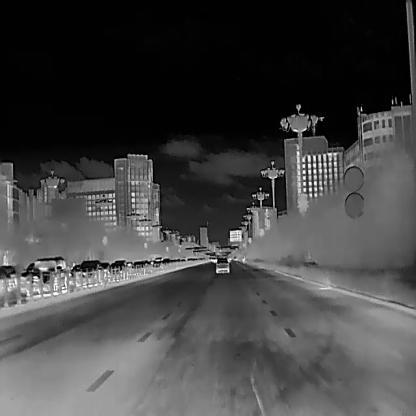car: (32, 255, 66, 293), (0, 264, 20, 302), (77, 260, 104, 285), (18, 271, 42, 298), (113, 259, 127, 279), (111, 263, 126, 280), (70, 264, 81, 285), (215, 257, 229, 272), (100, 262, 110, 280), (150, 257, 164, 267), (127, 261, 134, 275), (134, 260, 145, 268), (143, 259, 150, 268)
